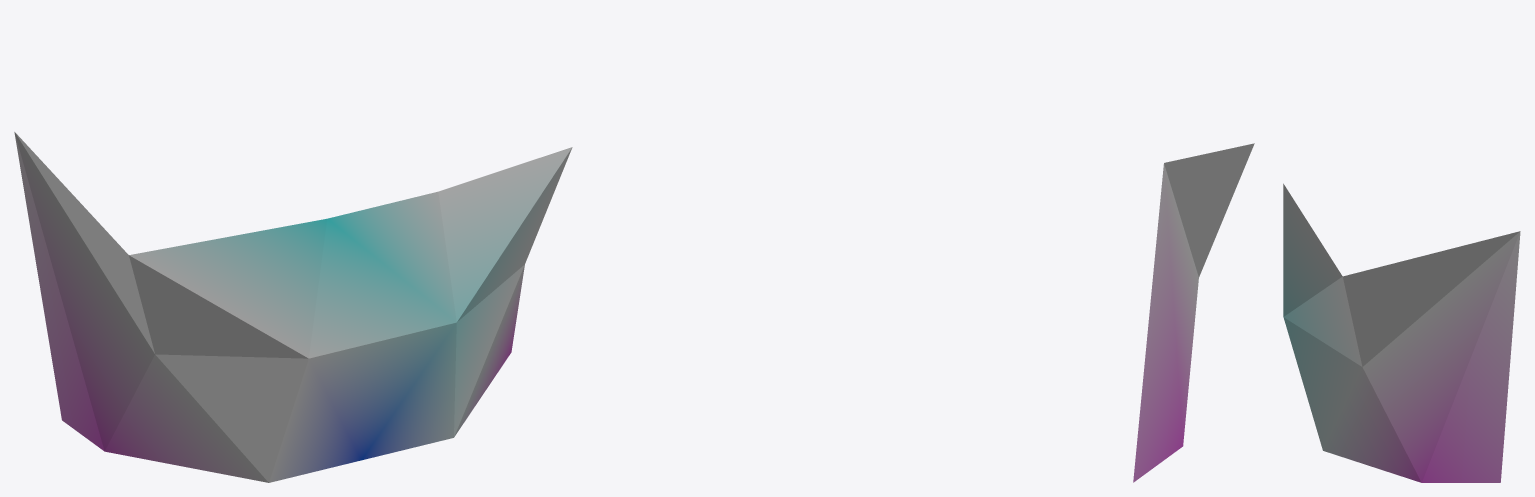
3 views of the same model, side by side, from view 1: azimuth 30°, elevation 25°; view 2: azimuth 150°, elevation 25°; view 3: azimuth 270°, elevation 25° (orthographic). The views are drawn at different scales.
Parts seen in each view (by area): view 1: model_1196; view 2: model_1196; view 3: model_1196.
Boxes of the visible parts, x1=… form: model_1196: x1=14, y1=132, x2=572, y2=482; model_1196: x1=1133, y1=143, x2=1254, y2=482; model_1196: x1=1283, y1=183, x2=1520, y2=482.
Size of the model in its own units: 26 by 16 by 12.
